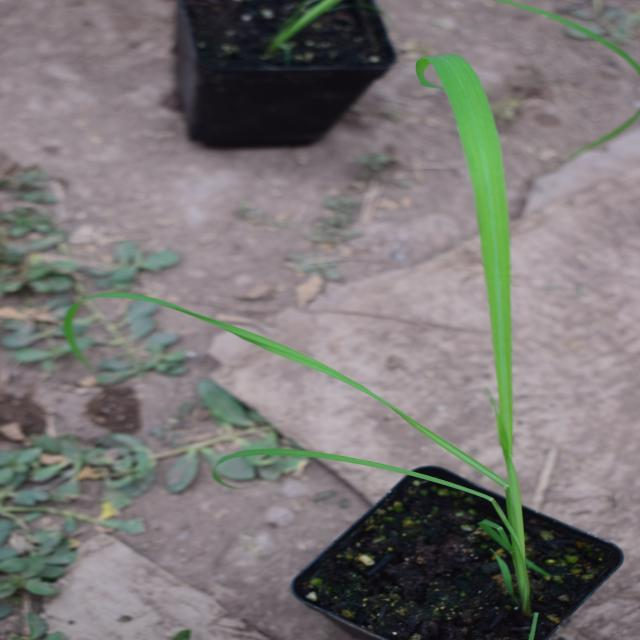barnyard_grass: (113, 222, 584, 561)
